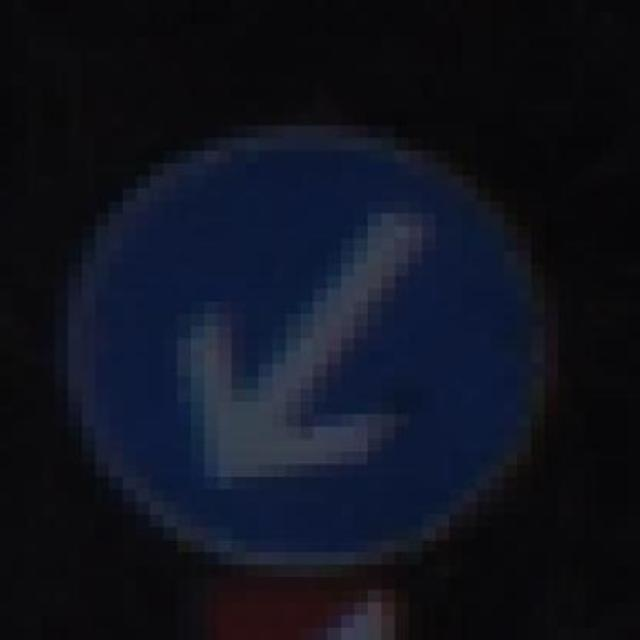Keep-Left: (54, 113, 572, 590)
